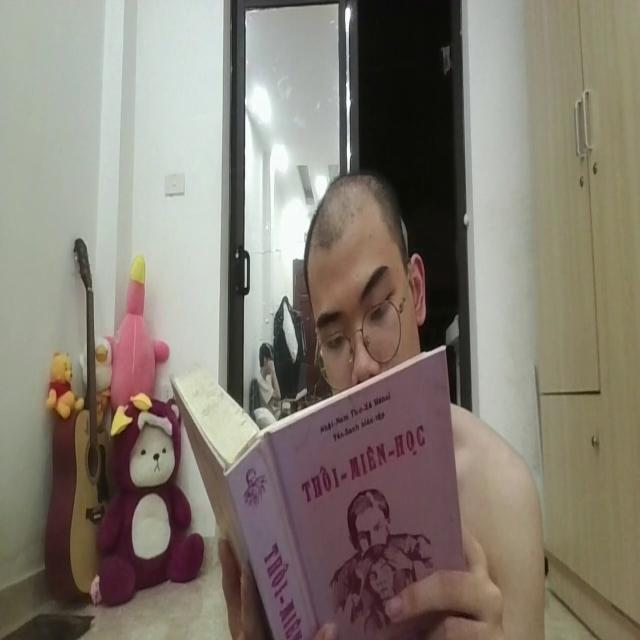book: (166, 347, 462, 640)
extra_person: (254, 330, 278, 403)
student: (300, 166, 430, 392)
